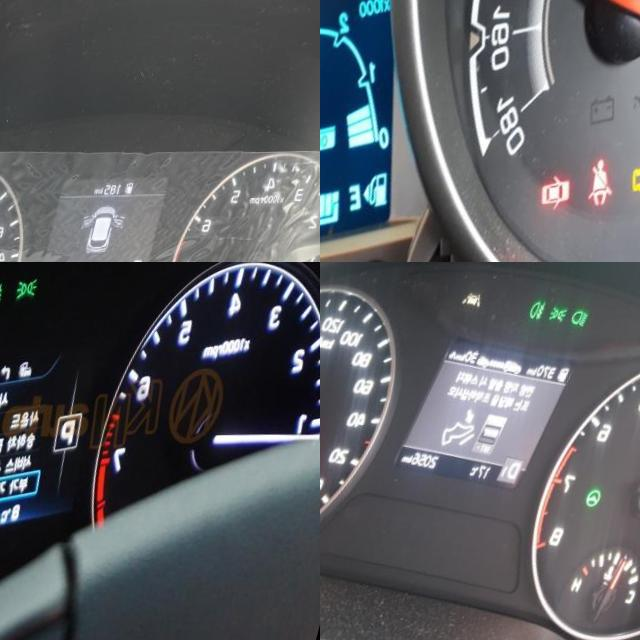Doors: (558, 172, 602, 214)
FrontFogLight: (538, 299, 560, 322), (0, 282, 15, 305)
LaneCenteringOff: (470, 290, 496, 309)
Low beam: (581, 309, 602, 328)
SideLamp: (26, 278, 50, 300), (558, 305, 582, 324)
